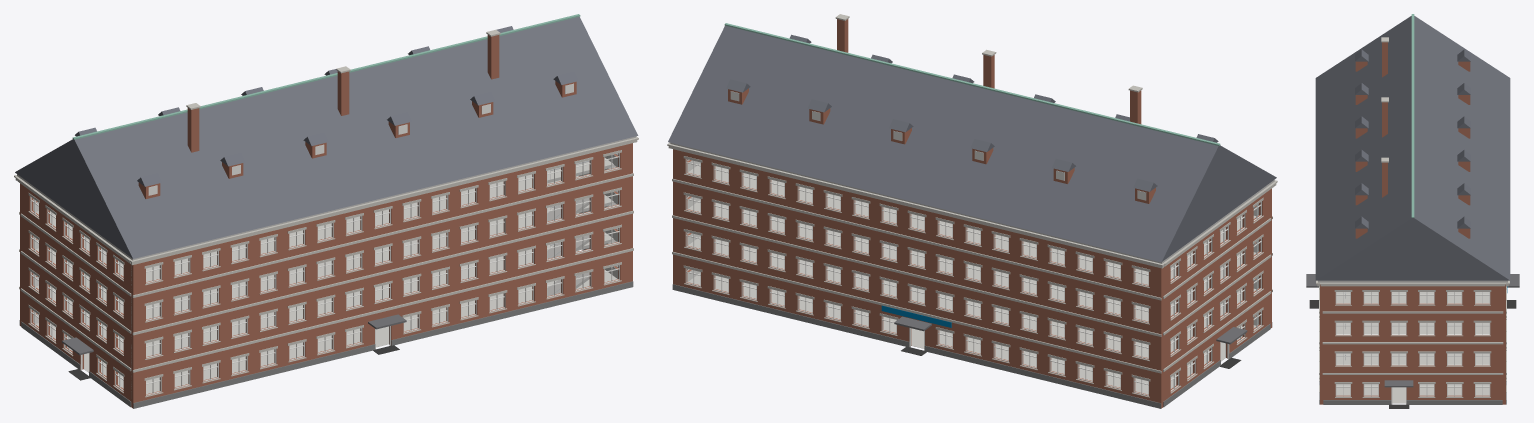
Rendered from SM_Bygg_Gamle_kjemi.fbx.
3 views of the same model, side by side, from view 1: azimuth 30°, elevation 25°; view 2: azimuth 150°, elevation 25°; view 3: azimuth 270°, elevation 25° (orthographic). The views are drawn at different scales.
Visible parts, largest first — view 1: SM_Bygg_Gamle_kjemi; view 2: SM_Bygg_Gamle_kjemi; view 3: SM_Bygg_Gamle_kjemi.
Boxes of the visible parts, left/top/right/bottom form: SM_Bygg_Gamle_kjemi: left=14, top=14, right=638, bottom=408; SM_Bygg_Gamle_kjemi: left=667, top=14, right=1277, bottom=408; SM_Bygg_Gamle_kjemi: left=1306, top=14, right=1519, bottom=408.
Bounding box in the file's own units: 25.2 × 59.2 × 27.01.
